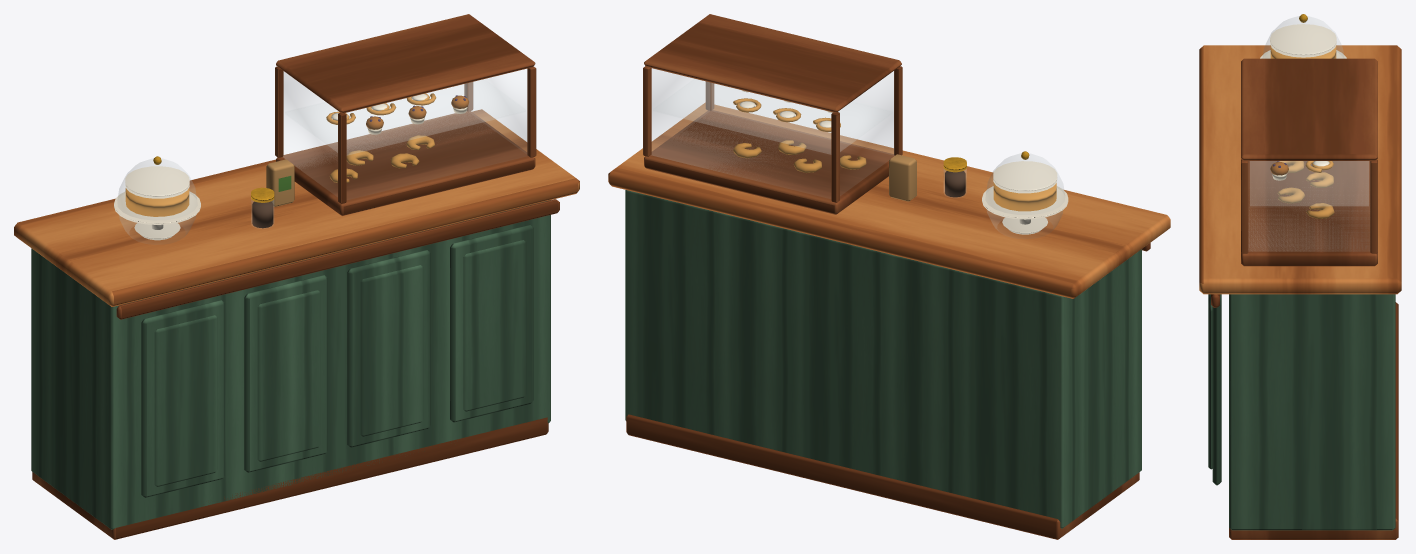
Rendered from cafe_counter.glb.
The picture shows the model from 3 angles, left to right: view 1: azimuth 30°, elevation 25°; view 2: azimuth 150°, elevation 25°; view 3: azimuth 270°, elevation 25°; orthographic projection. The views are drawn at different scales.
Visible parts, largest first — view 1: model; view 2: model; view 3: model.
Boxes of the visible parts, x1,y1,x2,y2 form: model: [14, 14, 579, 539]; model: [608, 14, 1170, 539]; model: [1199, 14, 1401, 539].
Bounding box in the file's own units: 1.88 × 1.41 × 0.68.
14 materials, 4 textured.
